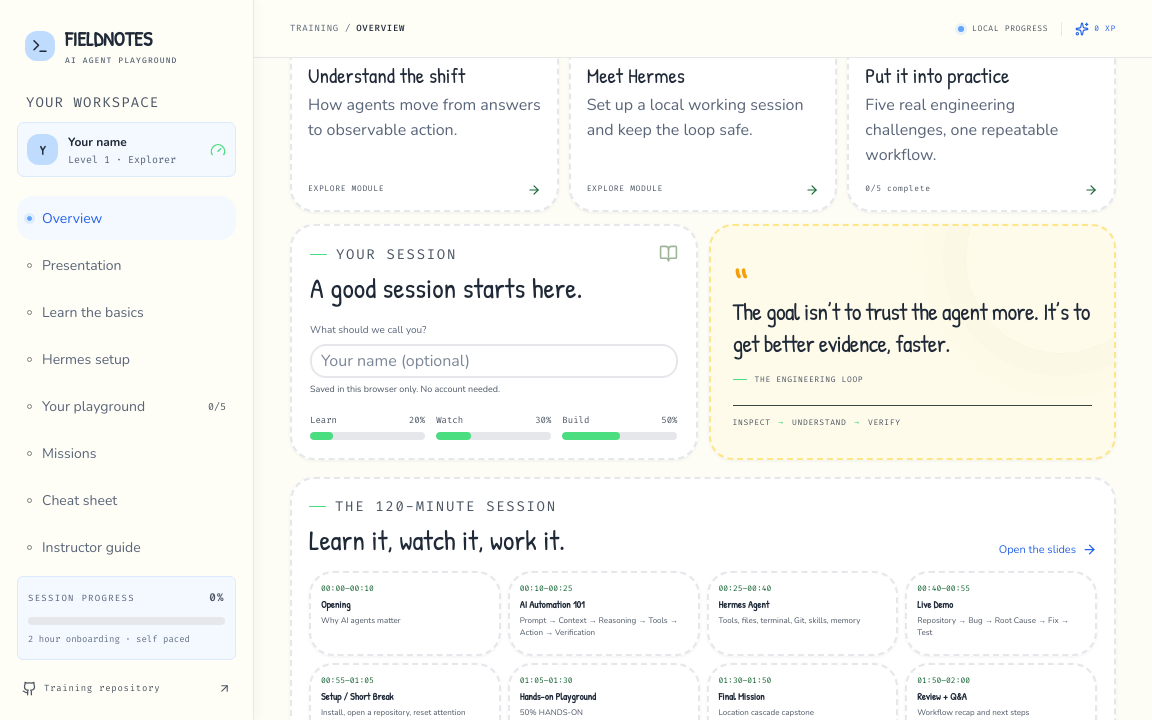
Test: training interactions › updates and persists the participant display name
The width and height of the screenshot is (1152, 720).
(page scrolled)
Type "Ada" into the field labelled "What should we call you?" at (494, 360), box [310, 344, 678, 378]
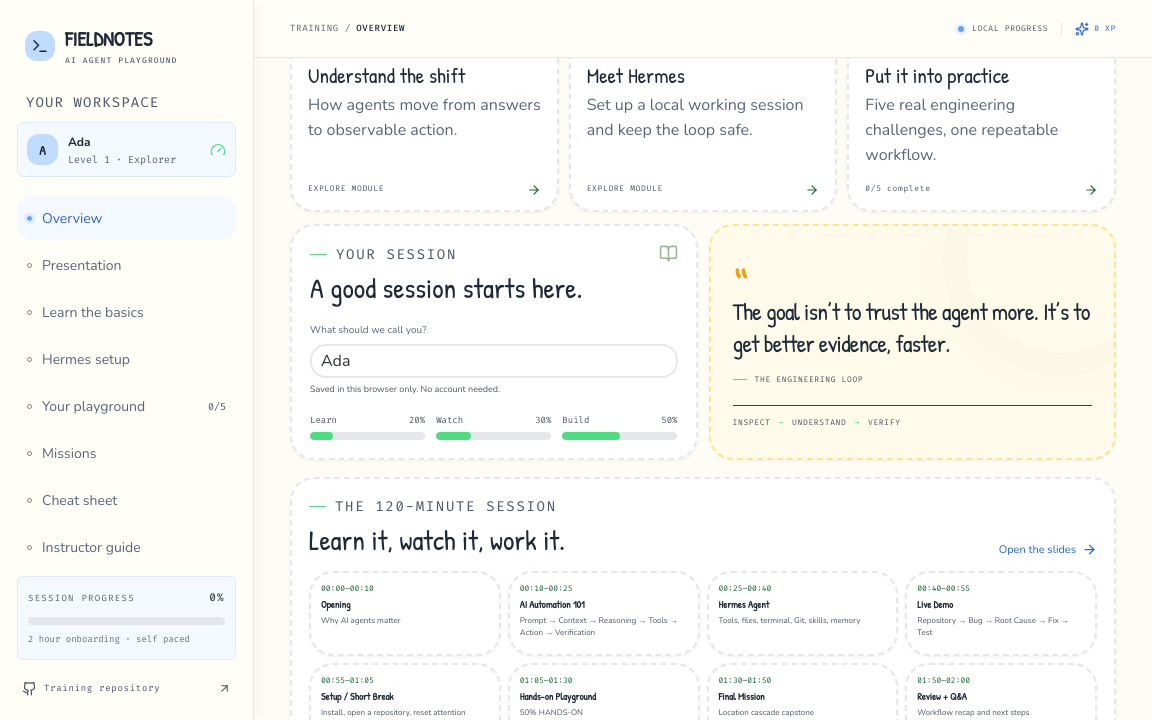
Expected: the text "Ada" is shown, [68, 134, 91, 150]
